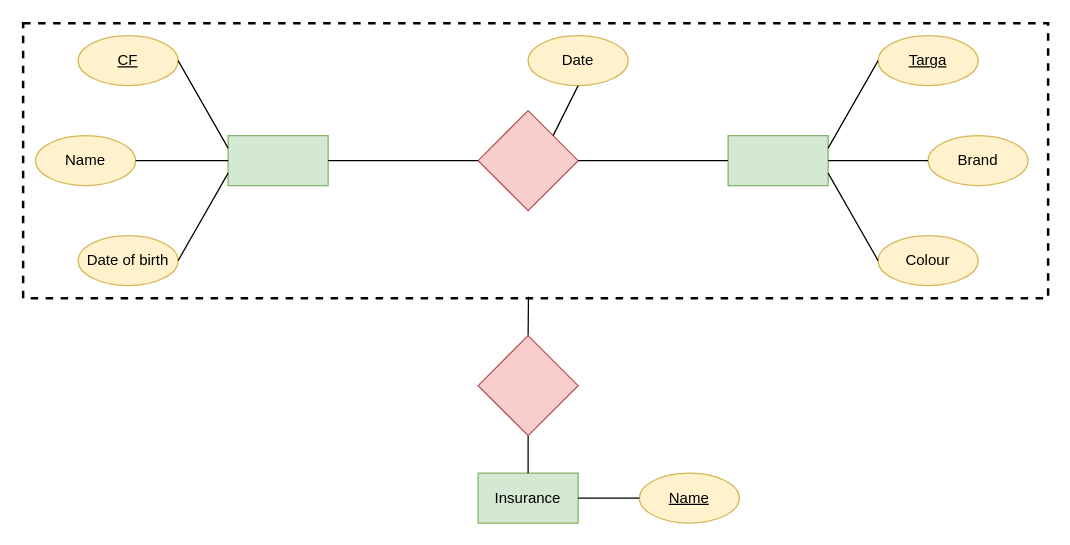
Some shapes in this 1070 by 545 pixel diagram are drawn without their labels. Each missing label, with the centre of its shape:
"Cars" goes at [777,160].
"Has" goes at [527,385].
"Persons" goes at [277,160].
"Rent" goes at [527,160].
